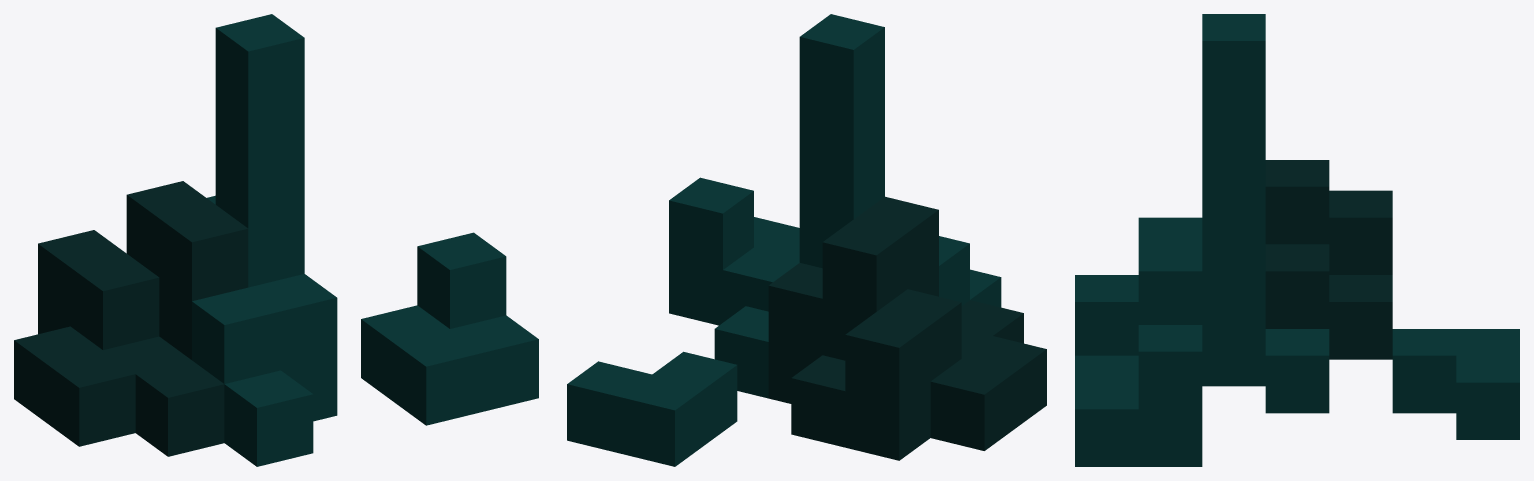
File: rock3.obj
3 views of the same model, side by side, from view 1: azimuth 30°, elevation 25°; view 2: azimuth 150°, elevation 25°; view 3: azimuth 270°, elevation 25° (orthographic). The views are drawn at different scales.
Size of the model in its own units: 0.7 by 0.6 by 0.7.
1 material, 1 textured.
